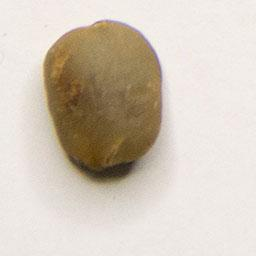defect: (40, 15, 167, 180)
